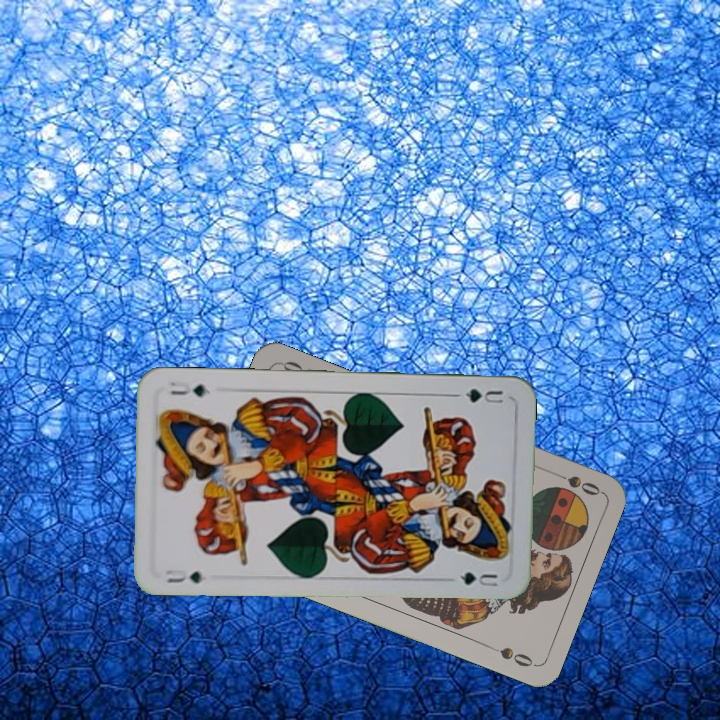GU: (451, 385, 506, 406), (163, 567, 205, 586)
SO: (546, 469, 603, 499)
